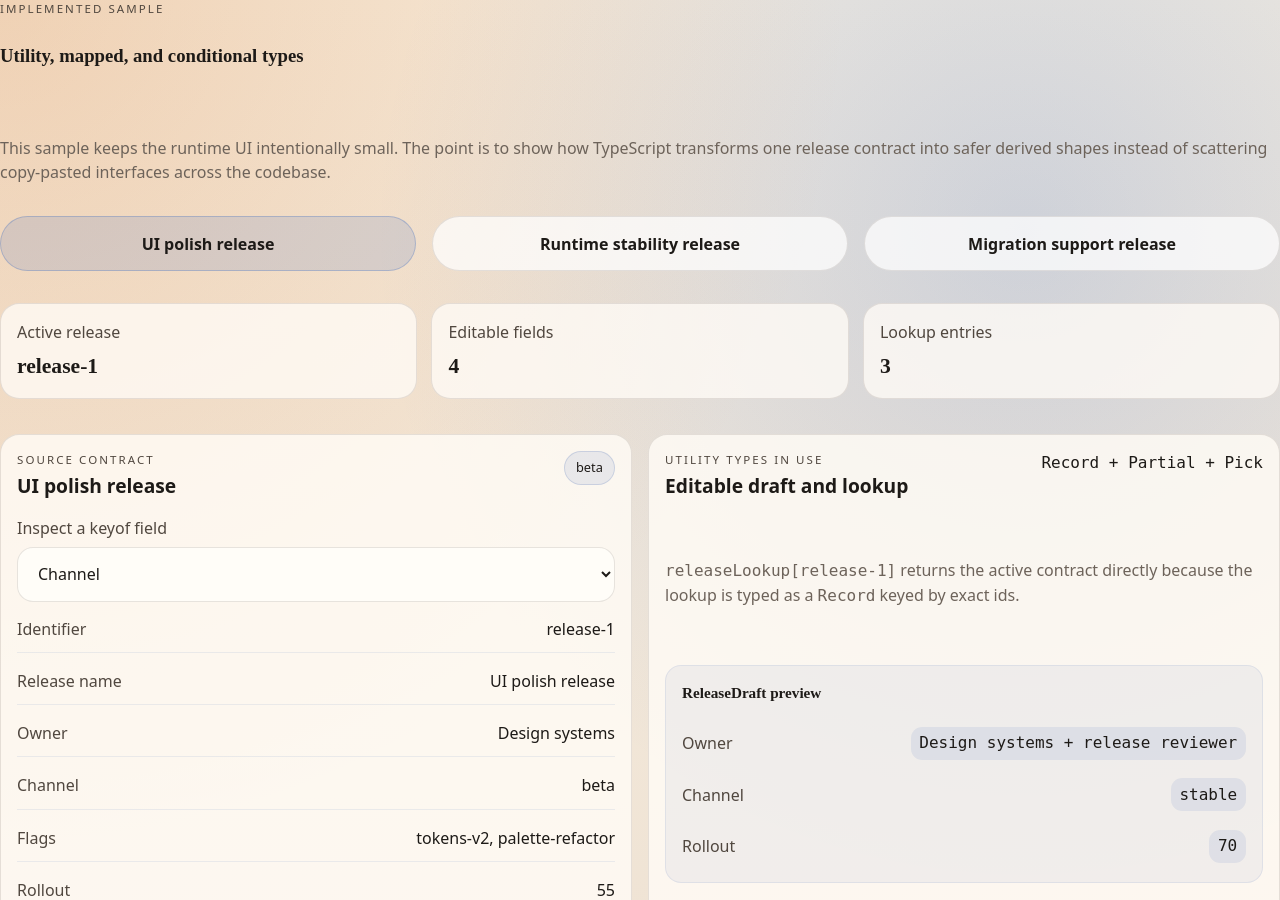
Test: utility mapped sample › updates the focused field explanation and active release details
The width and height of the screenshot is (1280, 900).
Step 1. Select "Paused" in the dropdown labelled "Inspect a keyof field" → (316, 574), box [17,547,615,602]
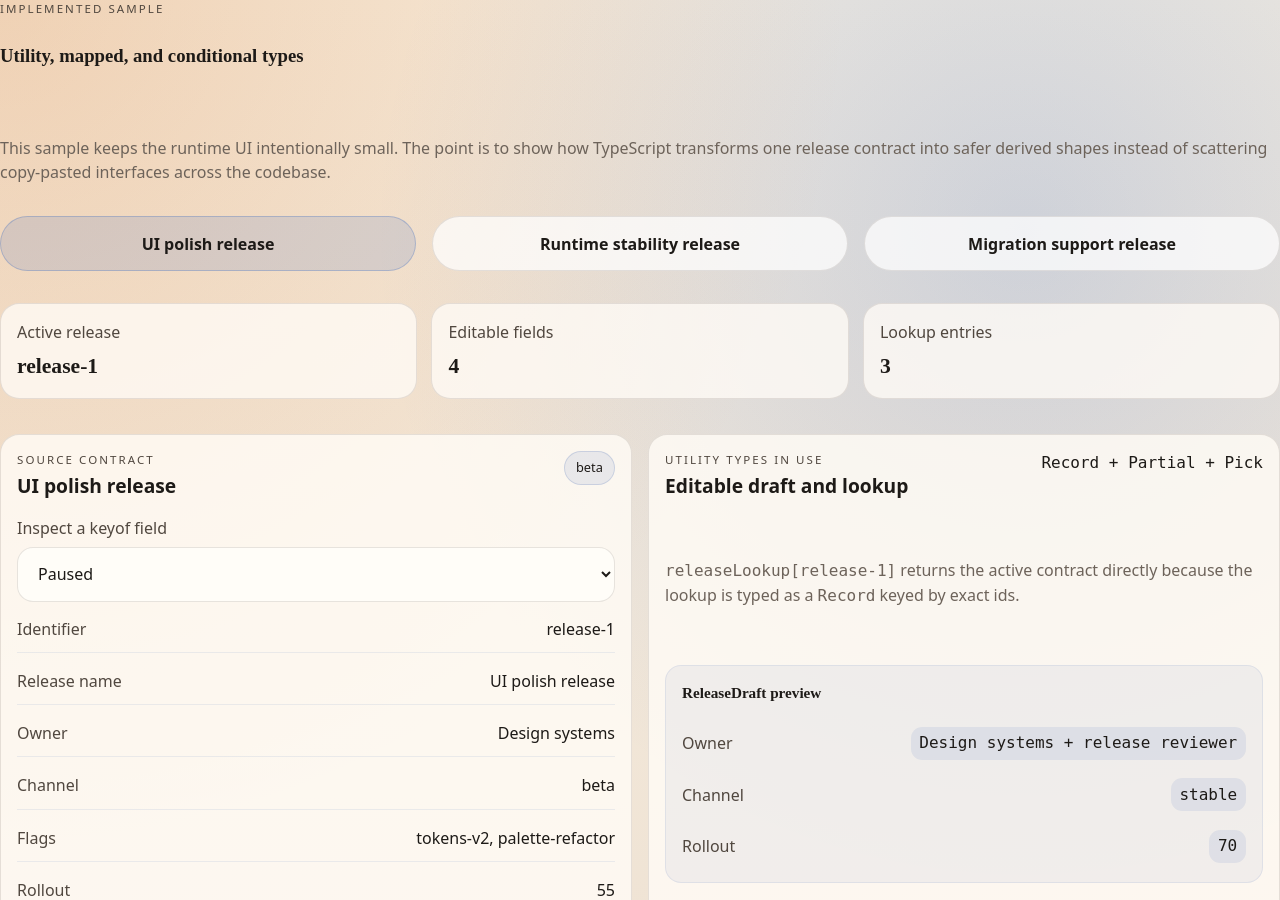
Step 2. Click the button "Migration support release" → click(1072, 244), box [864,216,1279,271]
(page scrolled)
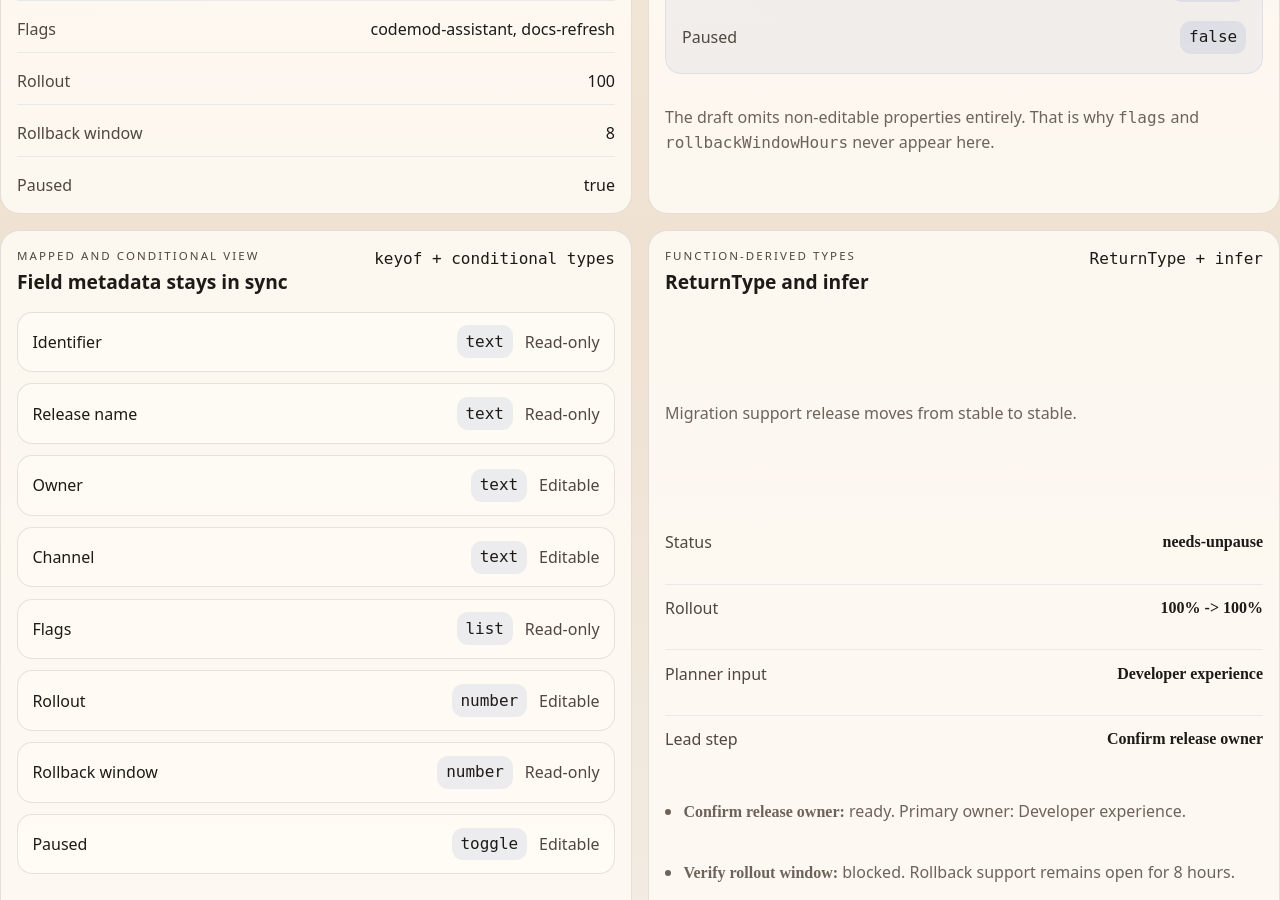
Now the text "needs-unpause" is shown, box [1162,533,1263,550]
Now the text "Migration support release moves from stable to stable." is shown, box [665,402,1077,424]
